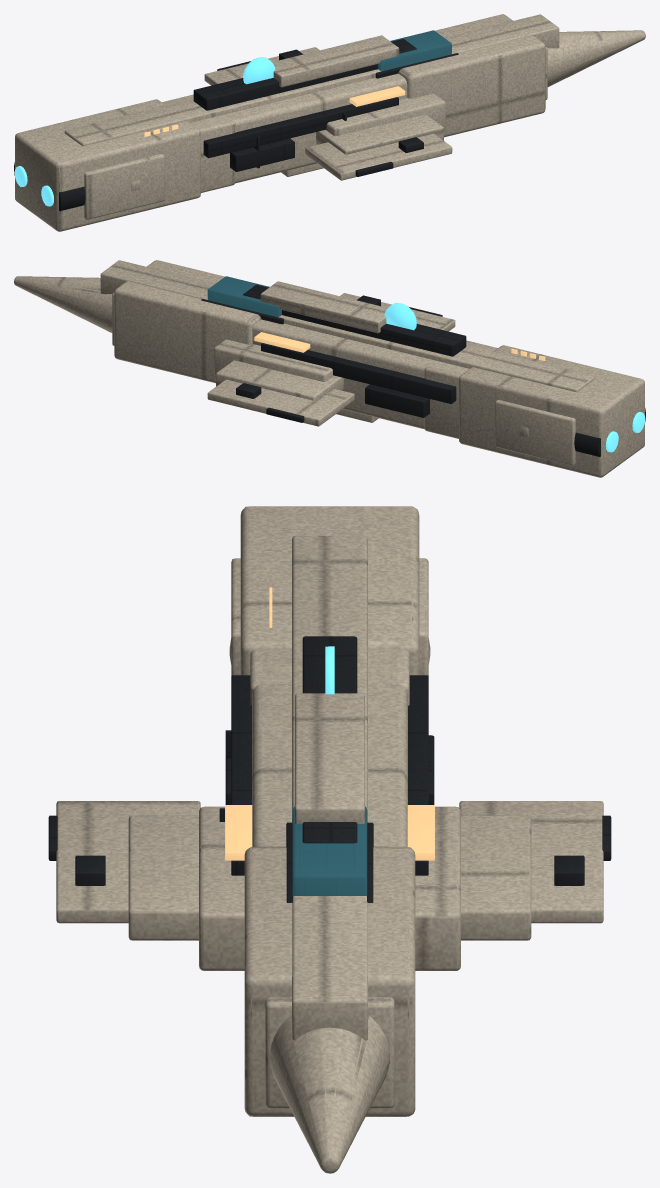
File: helios_lark.glb
The picture shows the model from 3 angles, top to bottom: view 1: azimuth 30°, elevation 25°; view 2: azimuth 150°, elevation 25°; view 3: azimuth 270°, elevation 25°; orthographic projection. The views are drawn at different scales.
Parts seen in each view (by area): view 1: LOD0_Merged_Material_Hull, LOD0_Merged_Material_Mechanical, LOD1_Merged_Material_Hull, LOD0_Merged_Material_Glass, LOD1_Merged_Material_Glass, LOD0_Merged_Material_Warm, LOD2_Merged_Material_Hull, LOD0_Merged_Material_Cyan, LOD0_HOOK_DRIVE_CORE, LOD2_Merged_Material_Cyan; view 2: LOD0_Merged_Material_Hull, LOD0_Merged_Material_Mechanical, LOD1_Merged_Material_Hull, LOD0_Merged_Material_Glass, LOD1_Merged_Material_Glass, LOD0_Merged_Material_Warm, LOD0_Merged_Material_Cyan, LOD2_Merged_Material_Hull, LOD2_Merged_Material_Cyan, LOD0_HOOK_DRIVE_CORE; view 3: LOD0_Merged_Material_Hull, LOD0_Merged_Material_Mechanical, LOD1_Merged_Material_Hull, LOD0_Merged_Material_Glass, LOD1_Merged_Material_Glass, LOD0_Merged_Material_Warm, LOD2_Merged_Material_Hull.
Boxes of the visible parts, x1,y1,x2,y2 form: LOD0_Merged_Material_Hull: [15, 14, 645, 231]; LOD0_Merged_Material_Mechanical: [14, 39, 458, 211]; LOD1_Merged_Material_Hull: [15, 14, 644, 231]; LOD0_Merged_Material_Glass: [378, 30, 451, 71]; LOD1_Merged_Material_Glass: [379, 30, 451, 70]; LOD0_Merged_Material_Warm: [144, 86, 405, 136]; LOD2_Merged_Material_Hull: [15, 14, 645, 231]; LOD0_Merged_Material_Cyan: [243, 57, 274, 84]; LOD0_HOOK_DRIVE_CORE: [14, 166, 53, 206]; LOD2_Merged_Material_Cyan: [244, 57, 275, 83]; LOD0_Merged_Material_Hull: [14, 260, 644, 477]; LOD0_Merged_Material_Mechanical: [201, 284, 645, 456]; LOD1_Merged_Material_Hull: [14, 260, 644, 477]; LOD0_Merged_Material_Glass: [207, 276, 281, 316]; LOD1_Merged_Material_Glass: [208, 276, 280, 316]; LOD0_Merged_Material_Warm: [254, 332, 545, 360]; LOD0_Merged_Material_Cyan: [384, 303, 416, 329]; LOD2_Merged_Material_Hull: [14, 260, 644, 477]; LOD2_Merged_Material_Cyan: [384, 302, 416, 330]; LOD0_HOOK_DRIVE_CORE: [606, 412, 645, 452]; LOD0_Merged_Material_Hull: [56, 506, 603, 1173]; LOD0_Merged_Material_Mechanical: [48, 636, 611, 902]; LOD1_Merged_Material_Hull: [56, 506, 603, 1173]; LOD0_Merged_Material_Glass: [292, 807, 367, 895]; LOD1_Merged_Material_Glass: [293, 808, 366, 895]; LOD0_Merged_Material_Warm: [225, 587, 434, 860]; LOD2_Merged_Material_Hull: [57, 506, 602, 1173].
Size of what is drawn, in the model's own units: 18.58 by 3.34 by 7.4.
5 materials, 5 textured.
